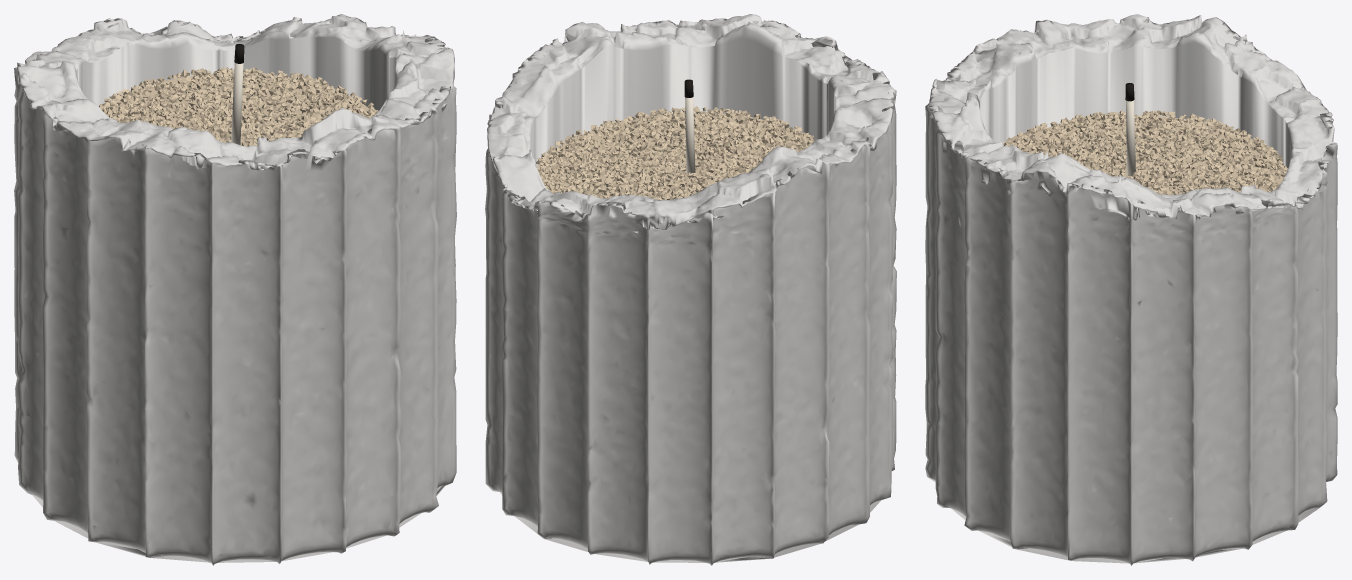
The model's file is fuste.glb.
The picture shows the model from 3 angles, left to right: view 1: azimuth 30°, elevation 25°; view 2: azimuth 150°, elevation 25°; view 3: azimuth 270°, elevation 25°; orthographic projection. The views are drawn at different scales.
Visible parts, largest first — view 1: Fuste, Areia, Pavio0; view 2: Fuste, Areia, Pavio0; view 3: Fuste, Areia, Pavio0.
Boxes of the visible parts, bbox=[...] form: Fuste: bbox=[14, 14, 456, 565]; Areia: bbox=[99, 67, 378, 146]; Pavio0: bbox=[231, 63, 243, 144]; Fuste: bbox=[485, 14, 896, 565]; Areia: bbox=[536, 106, 816, 199]; Pavio0: bbox=[685, 97, 695, 177]; Fuste: bbox=[925, 14, 1337, 565]; Areia: bbox=[1003, 110, 1287, 194]; Pavio0: bbox=[1126, 100, 1135, 178].
Size of the model in its own units: 0.1001 by 0.107 by 0.1001.
